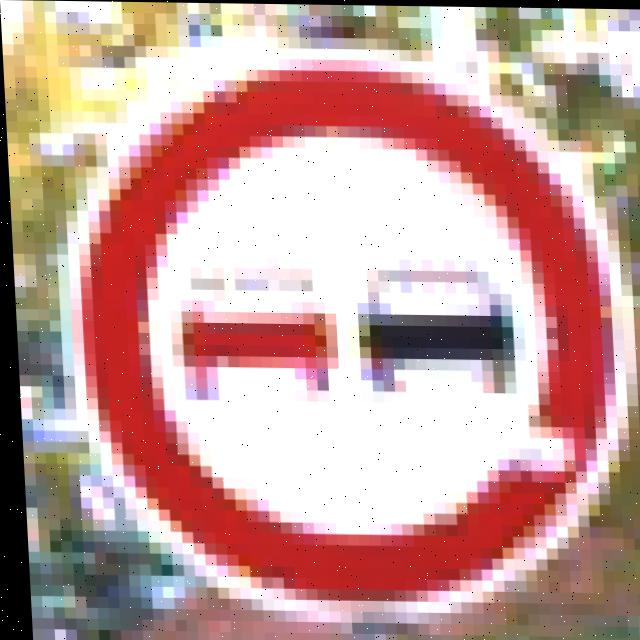no_overtaking: (53, 58, 640, 603)
